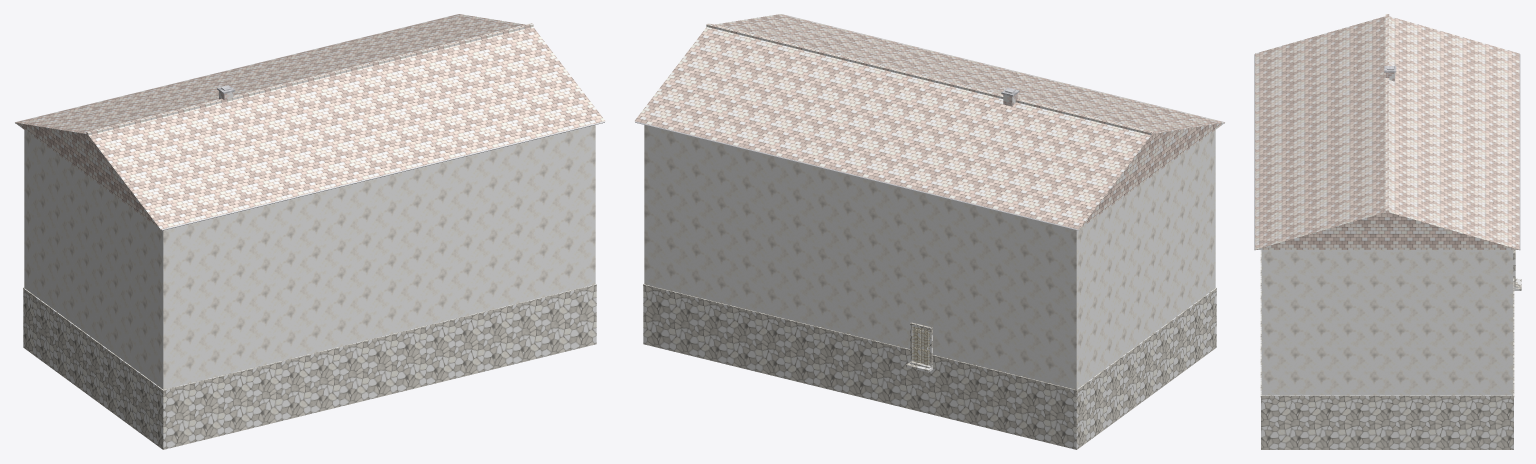
3 renders of one model, left to right at view 1: azimuth 30°, elevation 25°; view 2: azimuth 150°, elevation 25°; view 3: azimuth 270°, elevation 25°, orthographic. The views are drawn at different scales.
Parts seen in each view (by area): view 1: b1086637696; view 2: b1086637696; view 3: b1086637696.
Part boxes in pixels (box(x1,y1,x2,y2)): b1086637696: box(15, 14, 605, 449); b1086637696: box(634, 14, 1224, 449); b1086637696: box(1254, 14, 1521, 449).
Size of the model in its own units: 24.7 by 14.67 by 14.2.
14 materials, 14 textured.
